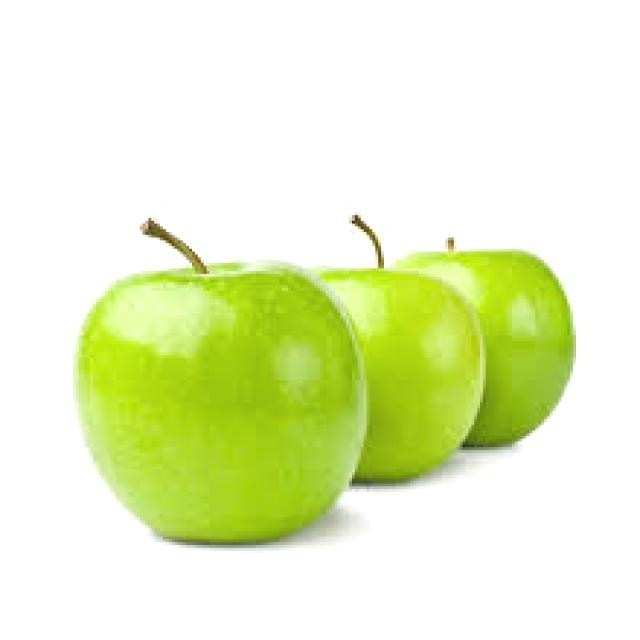agrume: (58, 209, 394, 587), (243, 198, 514, 506), (387, 196, 593, 482)
